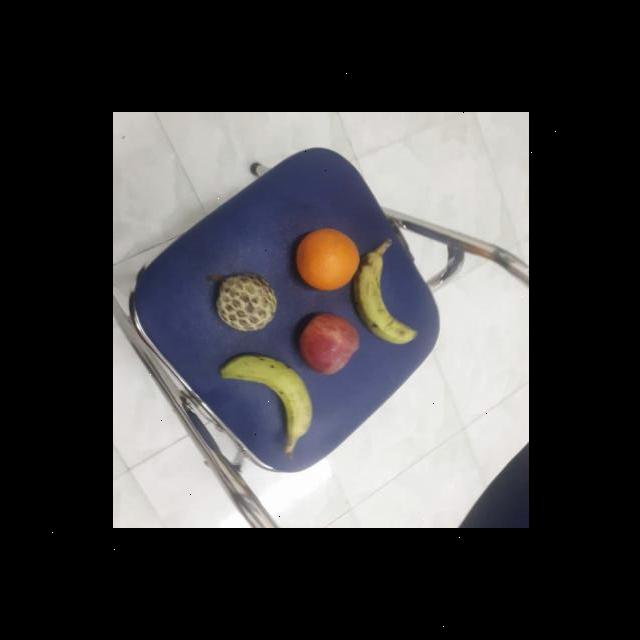Sakya fruit: (211, 270, 279, 336)
apple: (293, 226, 360, 294), (296, 310, 362, 378)
banana: (220, 351, 318, 440), (352, 246, 417, 346)
